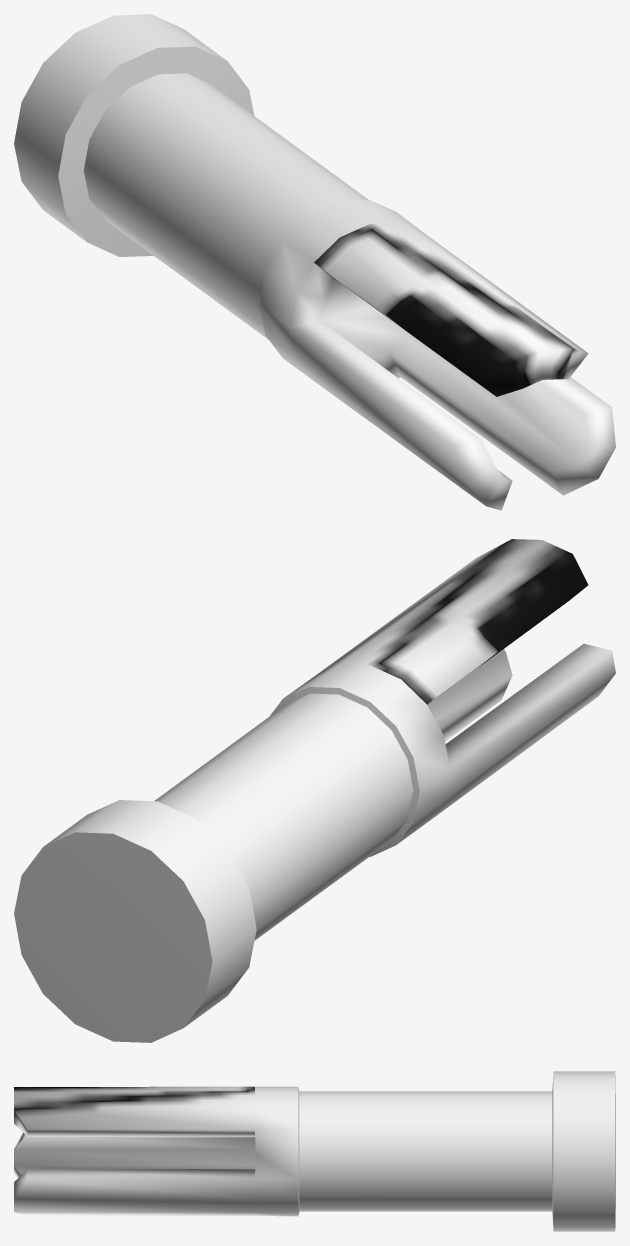
The model's file is Barrel - Default (SCAR-Enforcer 557).fbx.
3 views of the same model, one above another, from view 1: azimuth 30°, elevation 25°; view 2: azimuth 150°, elevation 25°; view 3: azimuth 270°, elevation 25° (orthographic). The views are drawn at different scales.
Visible parts, largest first — view 1: Barrel - Default (SCAR-Enforcer 557); view 2: Barrel - Default (SCAR-Enforcer 557); view 3: Barrel - Default (SCAR-Enforcer 557).
Part boxes in pixels (<box>): Barrel - Default (SCAR-Enforcer 557): <box>14,14,615,510</box>; Barrel - Default (SCAR-Enforcer 557): <box>14,539,615,1042</box>; Barrel - Default (SCAR-Enforcer 557): <box>14,1071,615,1231</box>.
Size of the model in its own units: 3.06 by 3.06 by 11.46.
